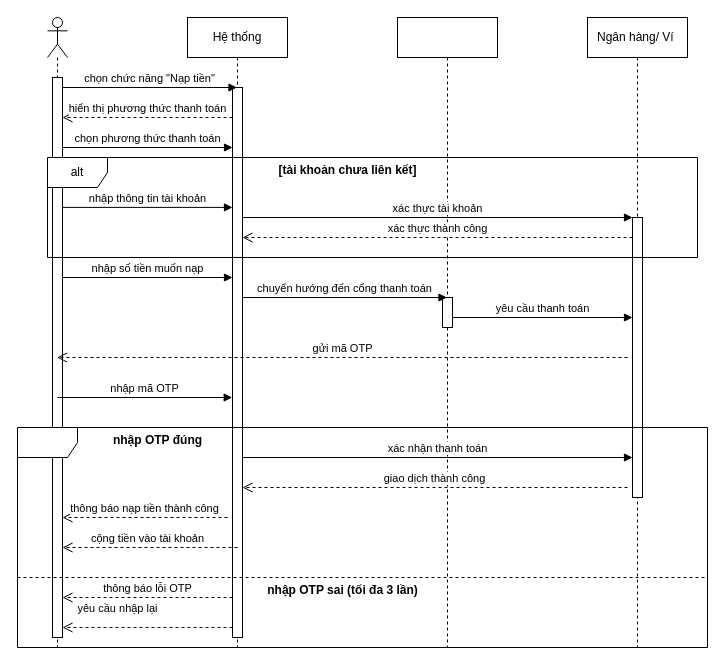
Some shapes in this 726 by 665 pixel diagram are drawn without their labels. Each missing label, with the box of its shape:
Cổng thanh toán: (396, 16, 498, 648)
frame: (16, 426, 708, 648)
